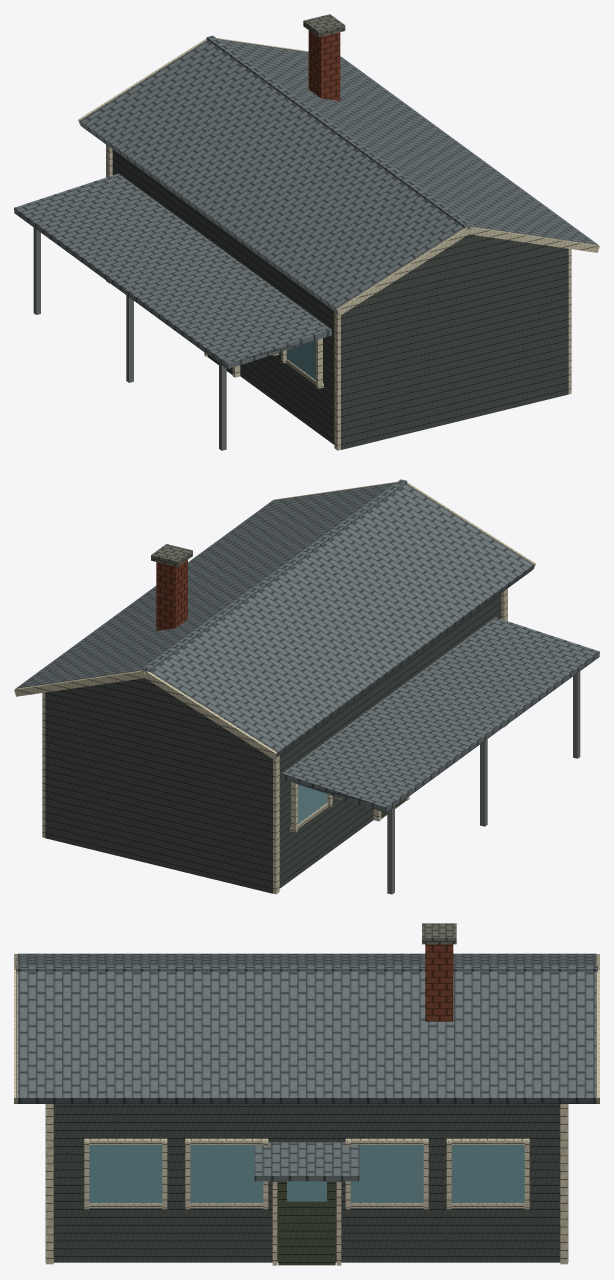
Rendered from norway-station-modern_lod1.glb.
3 views of the same model, one above another, from view 1: azimuth 30°, elevation 25°; view 2: azimuth 150°, elevation 25°; view 3: azimuth 270°, elevation 25° (orthographic). The views are drawn at different scales.
Visible parts, largest first — view 1: RF_Station_Roof-1, RF_Station_Body, RF_Station_Canopy, RF_Station_Roof1, RF_Station_Gable.001, RF_Station_Ridge, RF_Station_Chimney, RF_Station_Vergeband.001, RF_Station_Vergeband.003, RF_Station_Corner.001, RF_Station_Window.001, RF_Station_Post (+4 smaller); view 2: RF_Station_Roof-1, RF_Station_Body, RF_Station_Canopy, RF_Station_Roof1, RF_Station_Gable, RF_Station_Ridge, RF_Station_Chimney, RF_Station_Vergeband.002, RF_Station_Vergeband, RF_Station_Corner.002, RF_Station_Window.004, RF_Station_Post.001 (+4 smaller); view 3: RF_Station_Roof1, RF_Station_Body, RF_Station_Roof-1, RF_Station_Window.005, RF_Station_Window, RF_Station_PublicAwning, RF_Station_Door, RF_Station_Window.006, RF_Station_Window.007, RF_Station_Ridge, RF_Station_Chimney, RF_Station_Corner.003 (+11 smaller).
Boxes of the visible parts, x1,y1,x2,y2 form: RF_Station_Roof-1: (80, 40, 463, 313); RF_Station_Body: (112, 149, 568, 449); RF_Station_Canopy: (14, 173, 331, 369); RF_Station_Roof1: (218, 39, 597, 244); RF_Station_Gable.001: (385, 234, 553, 287); RF_Station_Ridge: (206, 35, 471, 228); RF_Station_Chimney: (308, 30, 340, 100); RF_Station_Vergeband.001: (336, 227, 469, 315); RF_Station_Vergeband.003: (468, 226, 599, 252); RF_Station_Corner.001: (334, 312, 340, 450); RF_Station_Window.001: (286, 340, 315, 379); RF_Station_Post: (33, 227, 40, 314); RF_Station_Roof-1: (150, 484, 534, 757); RF_Station_Body: (45, 593, 501, 893); RF_Station_Canopy: (282, 617, 599, 812); RF_Station_Roof1: (16, 483, 395, 688); RF_Station_Gable: (54, 678, 235, 735); RF_Station_Ridge: (142, 479, 407, 672); RF_Station_Chimney: (156, 560, 187, 630); RF_Station_Vergeband.002: (144, 671, 277, 759); RF_Station_Vergeband: (14, 670, 145, 696); RF_Station_Corner.002: (273, 755, 279, 894); RF_Station_Window.004: (298, 784, 327, 823); RF_Station_Post.001: (573, 671, 580, 758); RF_Station_Roof1: (17, 971, 596, 1103); RF_Station_Body: (45, 1104, 568, 1262); RF_Station_Roof-1: (17, 953, 596, 965); RF_Station_Window.005: (89, 1145, 162, 1203); RF_Station_Window: (451, 1145, 524, 1203); RF_Station_PublicAwning: (254, 1142, 359, 1181); RF_Station_Door: (278, 1181, 335, 1265); RF_Station_Window.006: (190, 1145, 263, 1203); RF_Station_Window.007: (350, 1145, 423, 1203); RF_Station_Ridge: (16, 965, 597, 971); RF_Station_Chimney: (425, 944, 453, 1021); RF_Station_Corner.003: (46, 1104, 53, 1264).
Size of the model in its own units: 14.23 by 9.3 by 16.82.
Materials: 8 (6 with a texture image).
